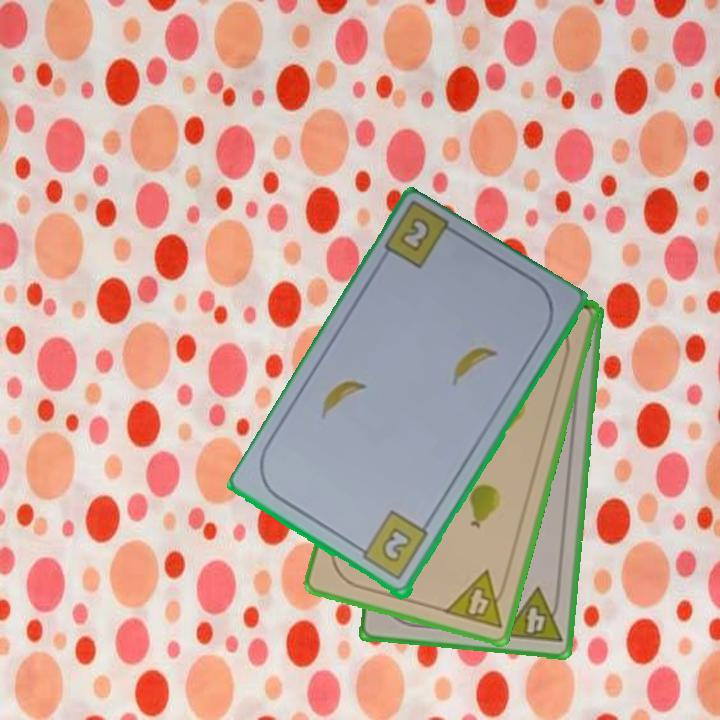2b: (352, 508, 431, 584), (399, 217, 431, 252)
4p: (440, 567, 512, 631), (499, 584, 565, 647)
